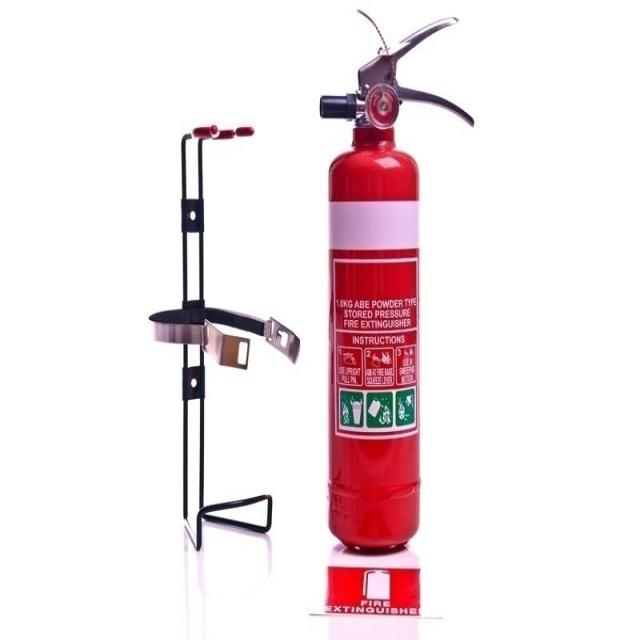fire_extinguisher: (313, 6, 477, 556)
